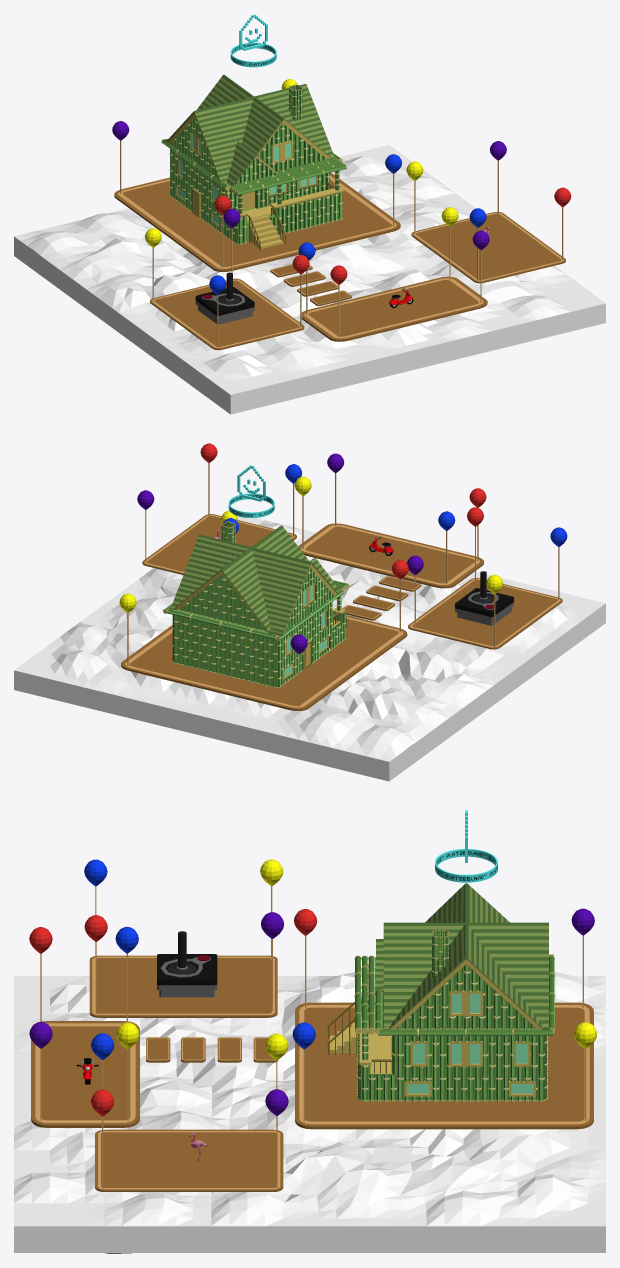
3 views of the same model, one above another, from view 1: azimuth 30°, elevation 25°; view 2: azimuth 150°, elevation 25°; view 3: azimuth 270°, elevation 25° (orthographic). The views are drawn at different scales.
Visible parts, largest first — view 1: Cube.013, Cube.1327, OBJRANDOM_JOYSTICK, TYPE_PREMIUM; view 2: Cube.013, Cube.1327, OBJRANDOM_JOYSTICK, TYPE_PREMIUM; view 3: Cube.013, Cube.1327, OBJRANDOM_JOYSTICK, TYPE_PREMIUM.
Boxes of the visible parts, left/top/right/bottom form: Cube.013: left=14, top=79, right=605, bottom=414; Cube.1327: left=161, top=74, right=346, bottom=249; OBJRANDOM_JOYSTICK: left=195, top=272, right=254, bottom=324; TYPE_PREMIUM: left=230, top=14, right=276, bottom=67; Cube.013: left=14, top=443, right=605, bottom=781; Cube.1327: left=163, top=521, right=349, bottom=687; OBJRANDOM_JOYSTICK: left=455, top=571, right=513, bottom=625; TYPE_PREMIUM: left=228, top=465, right=274, bottom=517; Cube.013: left=14, top=859, right=605, bottom=1252; Cube.1327: left=327, top=883, right=555, bottom=1101; OBJRANDOM_JOYSTICK: left=157, top=931, right=217, bottom=997; TYPE_PREMIUM: left=435, top=810, right=497, bottom=882.
Size of the model in its own units: 4000 by 2416 by 4000.
36 materials, 3 textured.
